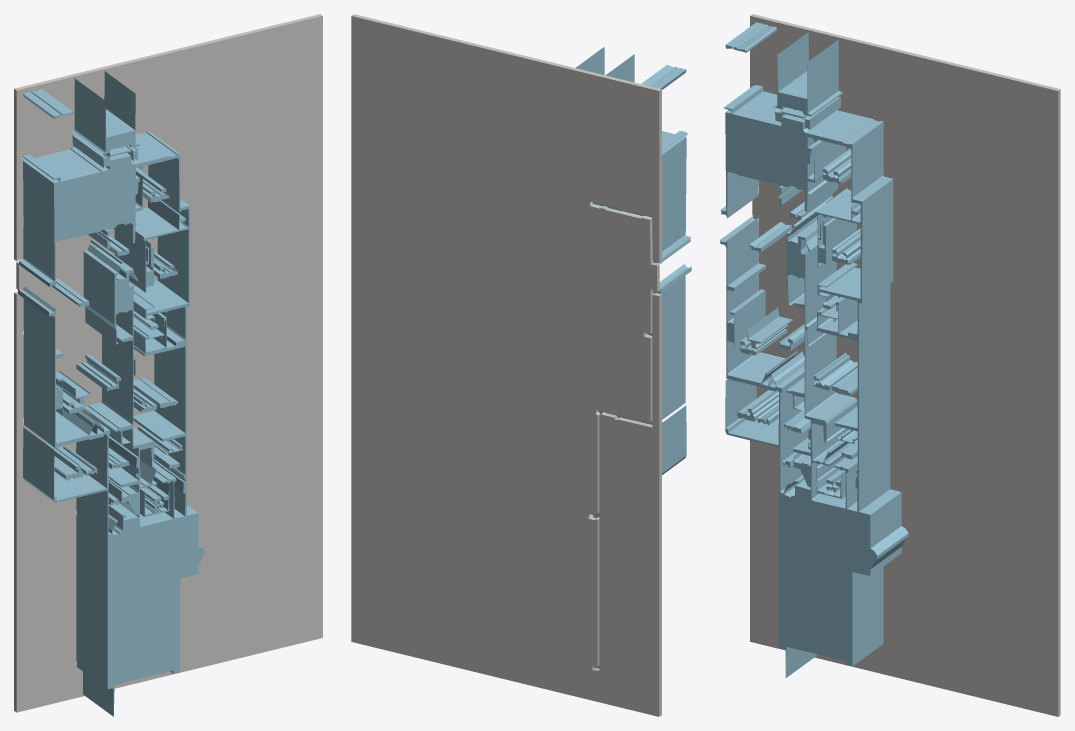
3 views of the same model, side by side, from view 1: azimuth 30°, elevation 25°; view 2: azimuth 150°, elevation 25°; view 3: azimuth 330°, elevation 25° (orthographic).
Visible parts, largest first — view 1: world; view 2: world; view 3: world.
Boxes of the visible parts, <box> form: world: <box>14,14,322,716</box>; world: <box>351,14,691,716</box>; world: <box>720,14,1060,716</box>.
Size of the model in its own units: 10.23 by 19.86 by 1.94.
